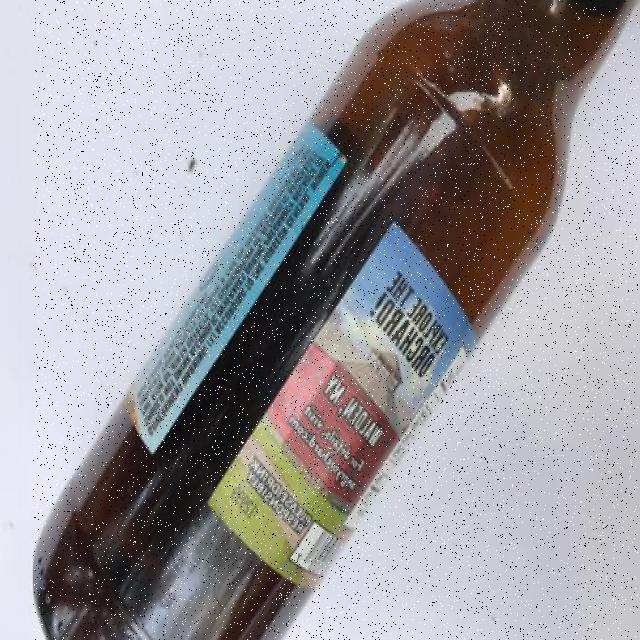glass: (34, 0, 638, 640)
